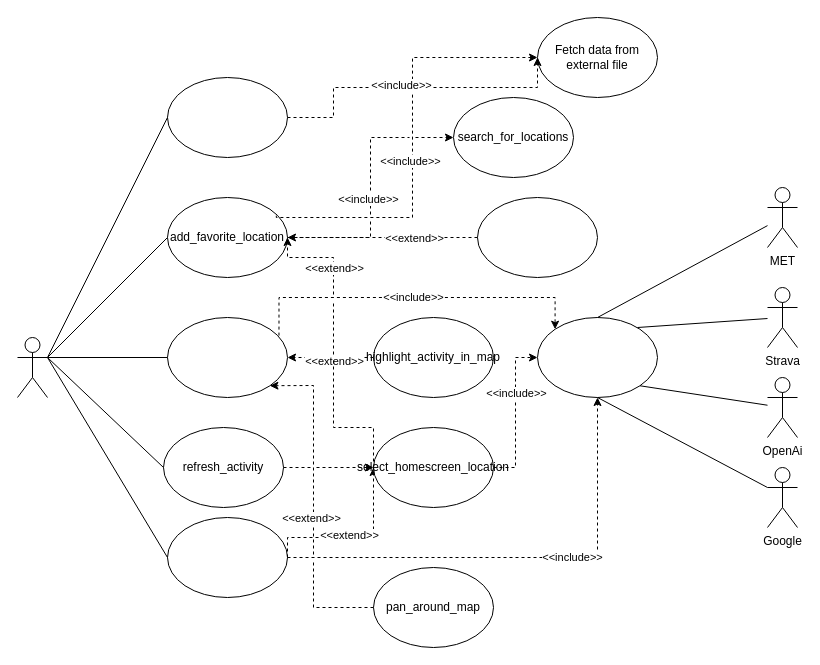
Image size: 820x665. Some labels were removed from this diagram. Each missing label, with the centre of its shape:
delete_favorite_location: the point at 537,237
edit_preferences: the point at 227,117
Fetch data from External API: the point at 597,357
find_activities_for_a_future_day: the point at 227,557
User: the point at 32,367
view_activity_in_map: the point at 227,357
